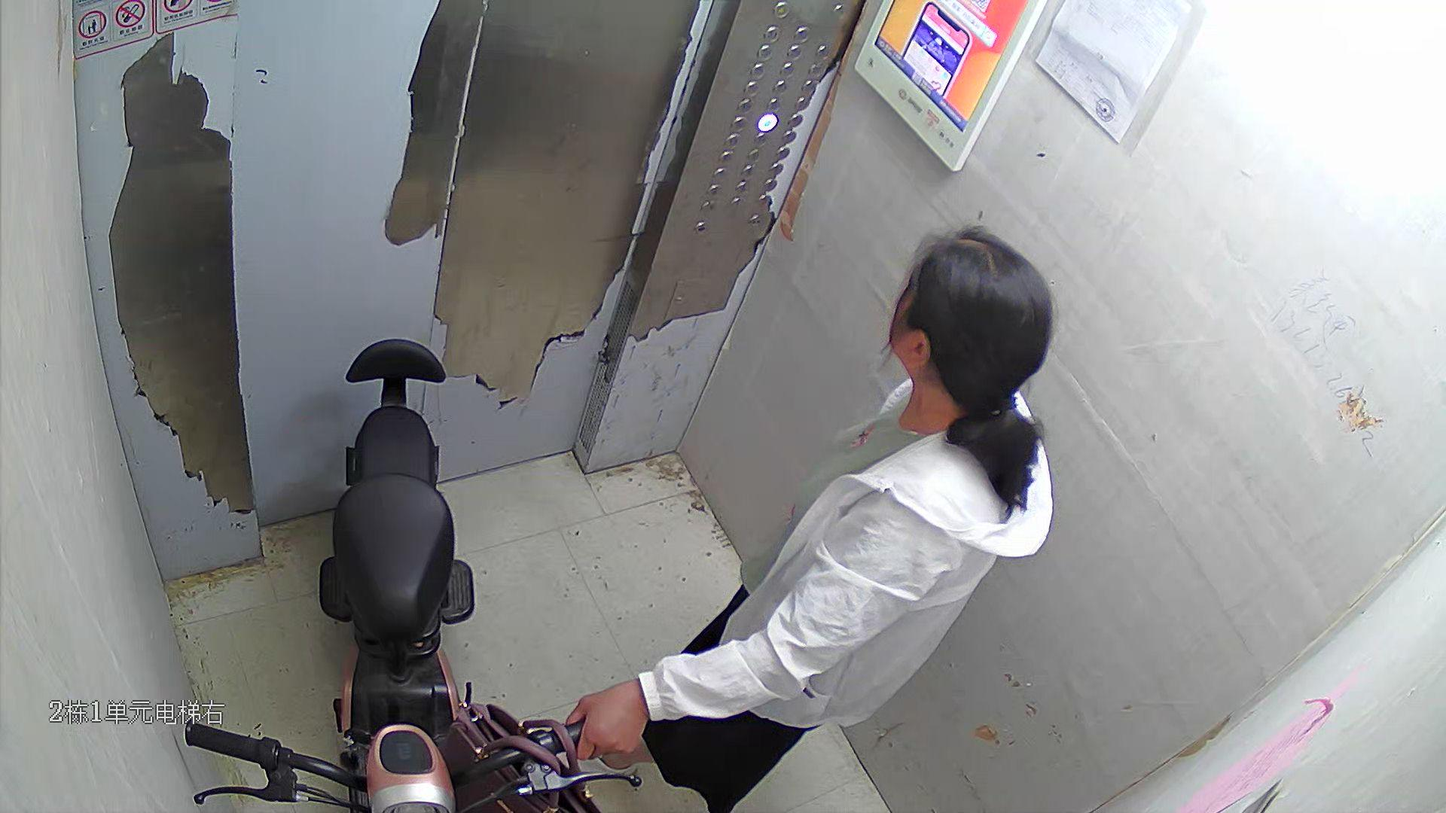Electric-bicycle: (183, 330, 640, 812)
person: (569, 237, 1053, 813)
